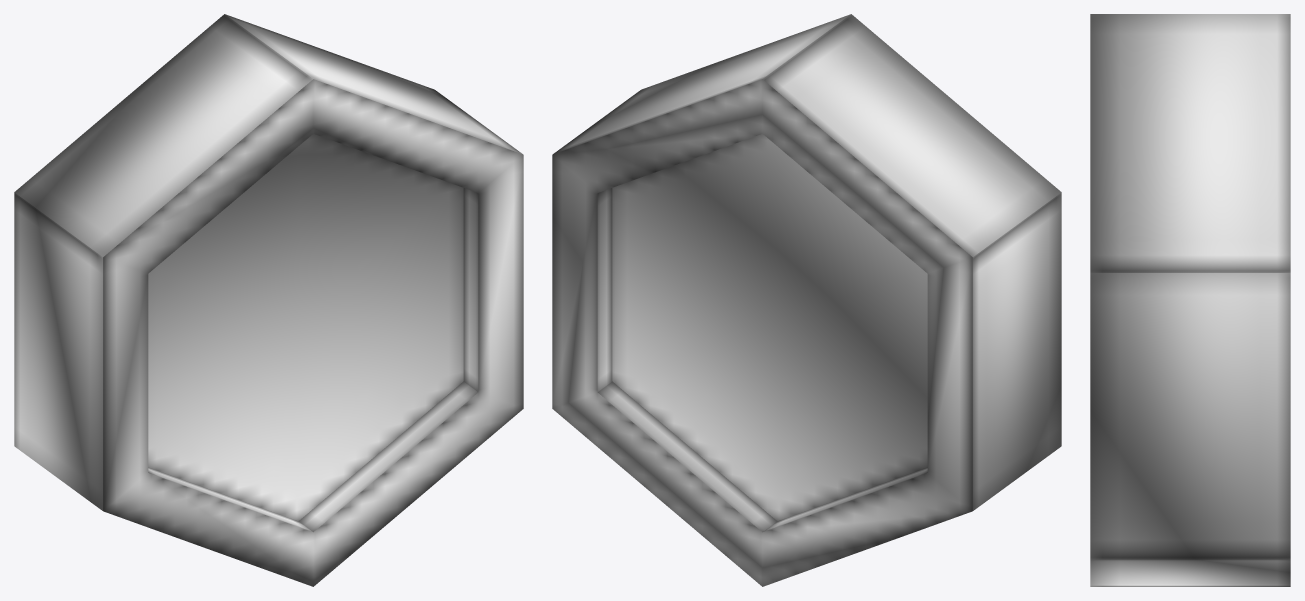
Rendered from Coin-01.fbx.
3 views of the same model, side by side, from view 1: azimuth 30°, elevation 25°; view 2: azimuth 150°, elevation 25°; view 3: azimuth 270°, elevation 25° (orthographic). The views are drawn at different scales.
Visible parts, largest first — view 1: Coin-01; view 2: Coin-01; view 3: Coin-01.
Part boxes in pixels (bbox=[...]): Coin-01: bbox=[14, 14, 523, 586]; Coin-01: bbox=[552, 14, 1061, 586]; Coin-01: bbox=[1090, 14, 1290, 586].
Size of the model in its own units: 0.2224 by 0.2566 by 0.0814.
